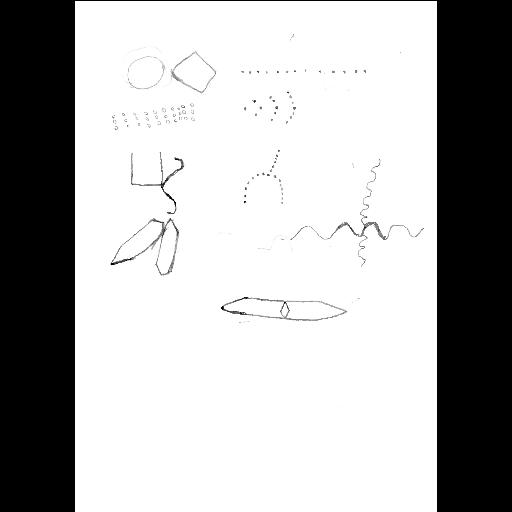shape-1: (124, 45, 216, 95)
shape-2: (236, 59, 368, 77)
shape-3: (104, 99, 198, 139)
shape-4: (237, 87, 297, 127)
shape-5: (126, 144, 186, 216)
shape-6: (240, 142, 286, 210)
shape-7: (280, 158, 422, 268)
shape-8: (110, 214, 180, 282)
shape-9: (215, 292, 349, 324)
